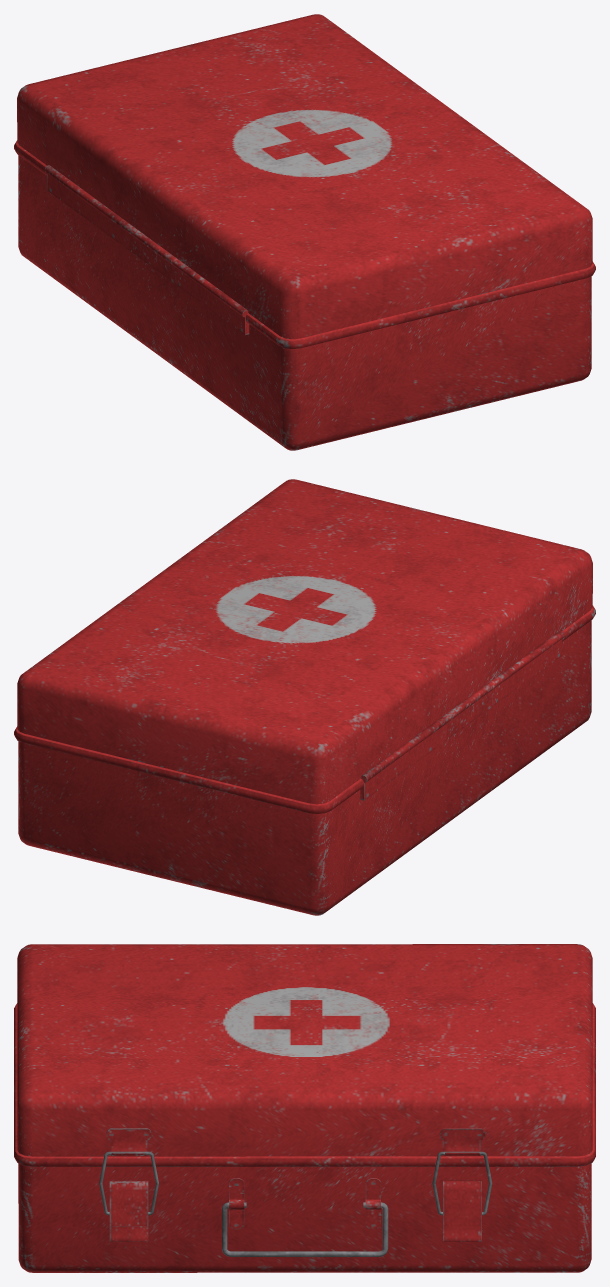
File: Medkit.fbx
The picture shows the model from 3 angles, top to bottom: view 1: azimuth 30°, elevation 25°; view 2: azimuth 150°, elevation 25°; view 3: azimuth 270°, elevation 25°; orthographic projection. The views are drawn at different scales.
Parts seen in each view (by area): view 1: MedKit; view 2: MedKit; view 3: MedKit.
Part boxes in pixels (box(x1,y1,x2,y2)): MedKit: box(14, 14, 595, 450); MedKit: box(14, 479, 595, 915); MedKit: box(14, 944, 595, 1272).
Bounding box in the file's own units: 56.15 × 28.44 × 82.95.
